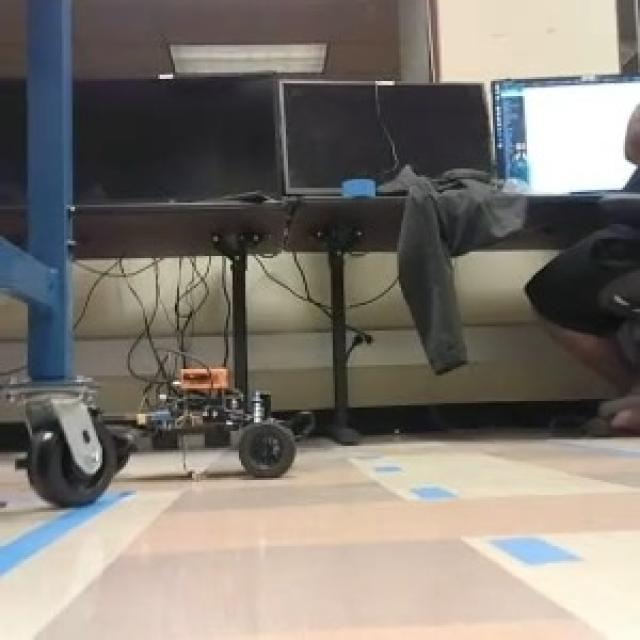obstacle: (98, 366, 297, 479)
